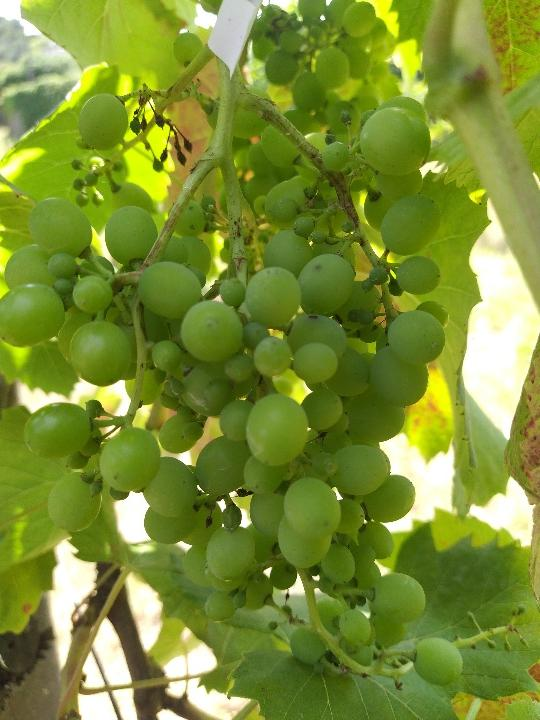grape: (6, 92, 469, 690)
